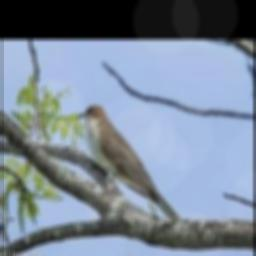Cuckoo: (76, 104, 182, 220)
